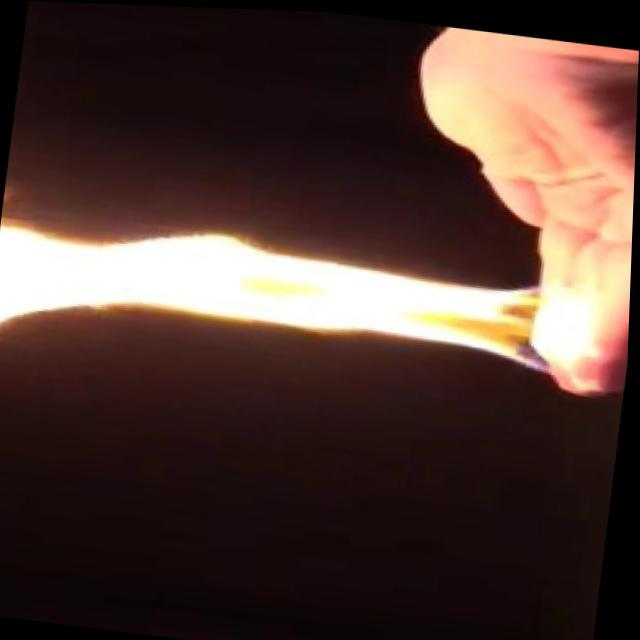Fire: (0, 183, 614, 406)
